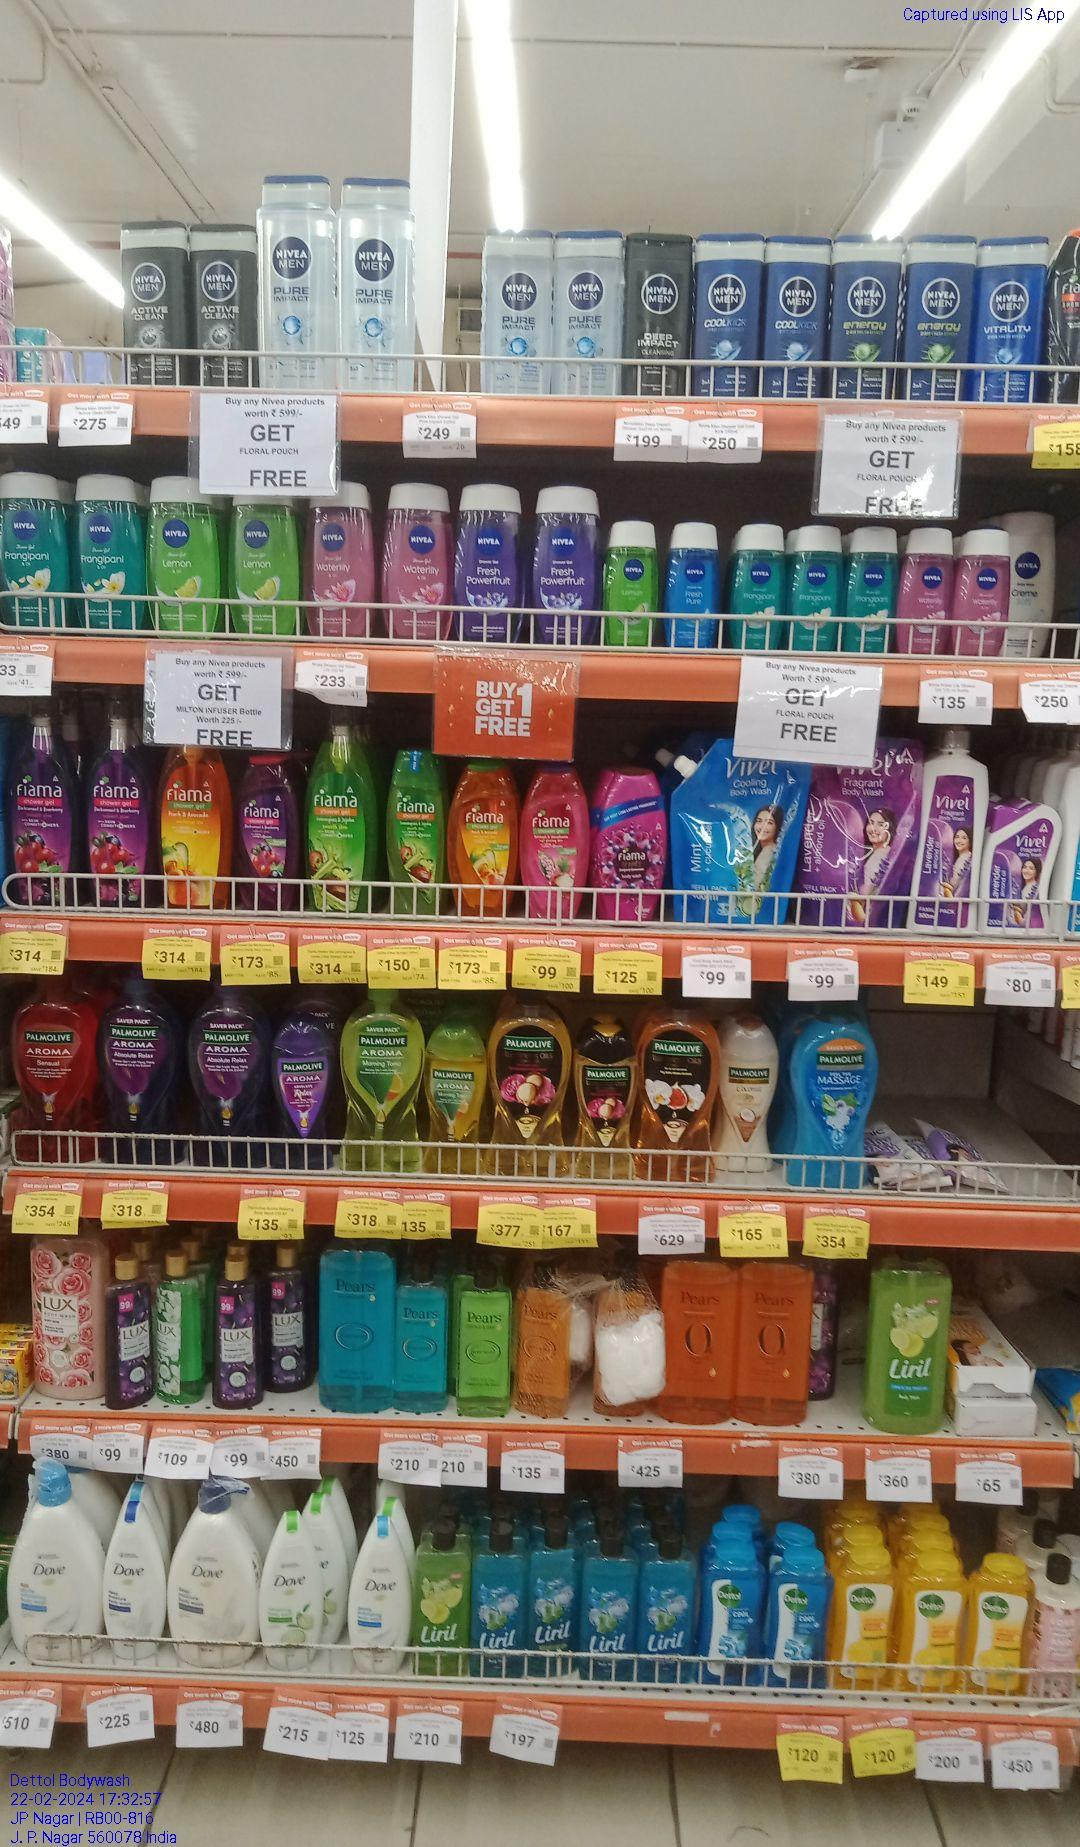Dettol_Bodywash_Cool: (699, 1539, 766, 1689), (774, 1549, 827, 1690)
Dettol_Bodywash_Refresh: (834, 1550, 897, 1695), (900, 1555, 964, 1697), (969, 1557, 1030, 1700)
Dove_Deep_Moisture_Body_Wash_250ML: (104, 1503, 170, 1662)
Dove_Gentle_Exfoliating_Body_Wash_250ML: (347, 1517, 417, 1672)
Dove_Refreshing_Body_Wash_250ML: (262, 1510, 318, 1673)
Fiama_Shower_Gel_Patchouli_and_Macadamia_250ML: (449, 757, 518, 918), (523, 766, 588, 924)
Lux_Black_Orchid_Scent_and_Juniper_Oil_Body_Wash_245ML: (266, 1245, 316, 1395), (211, 1256, 261, 1404), (114, 1258, 152, 1410)
Lux_Body_Wash_Skin_Detox_Freesia_Scent_and_Alove_Vera_245ML: (154, 1251, 199, 1402)
Nivea_Shower_Gel_Frangipani_and_Oil_250ML: (73, 472, 147, 635), (0, 468, 68, 636)
Nivea_Shower_Gel_Fresh_Powerfruit_250ML: (531, 485, 594, 650), (455, 486, 519, 645)
Nivea_Shower_Gel_Lemon_and_Oil_250ML: (153, 476, 216, 640), (231, 491, 294, 644)
Nivea_Shower_Gel_Waterlily_and_Oil_250ML: (388, 479, 447, 641), (309, 491, 370, 640)
Palmolive_Aroma_Morning_Tonic_Shower_Gel_250ML: (426, 1022, 485, 1176)
Palmolive_Coconut_Joy_Exfoliating_Body_Wash_250ML: (720, 1028, 783, 1173)
Palmolive_Luminous_Oils_Invigorating_Macadamia_Oil_With_Peony_250ML: (580, 1030, 638, 1184)
Pears_Pure_Glycerin_and_Lemon_Flower_Extracts_Body_Wash_250ML: (455, 1270, 516, 1415)
Pears_Pure_Glycerin_and_Mint_Extracts_Body_Wash_250ML: (393, 1262, 451, 1410)
